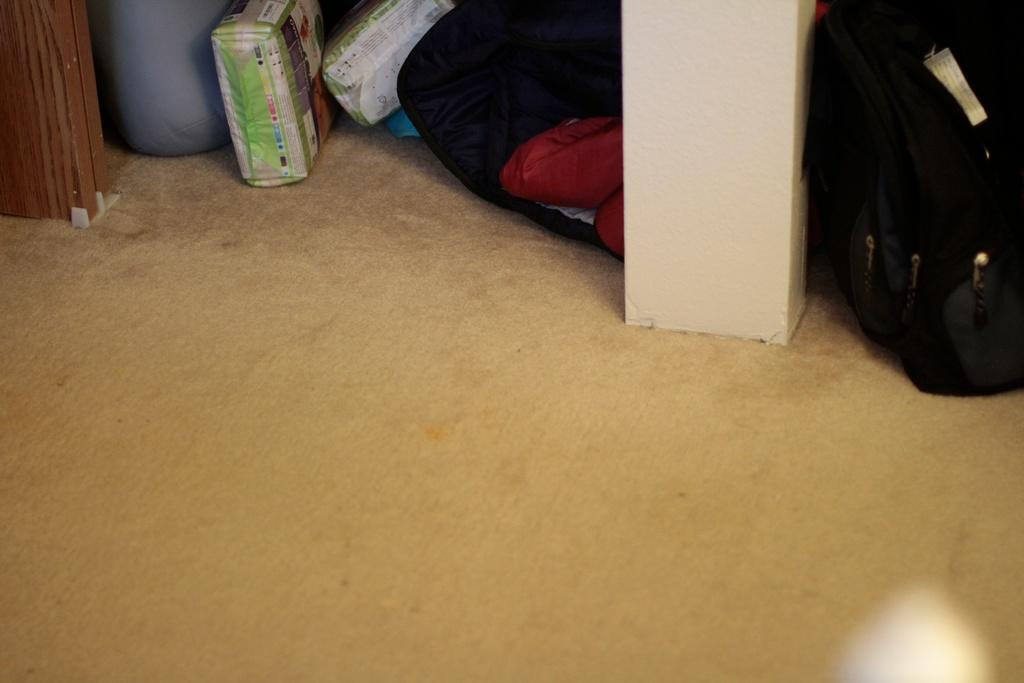Luggage-and-bags: (801, 0, 1023, 400), (397, 0, 626, 263)
